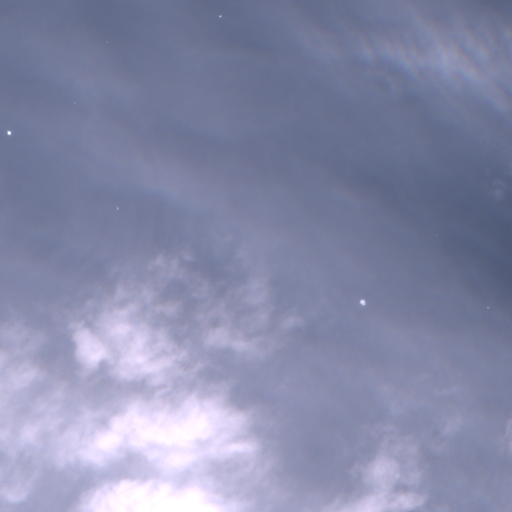Iceberg: (360, 299, 364, 305), (7, 130, 11, 134), (219, 15, 221, 17), (117, 207, 118, 209), (487, 306, 488, 308)
